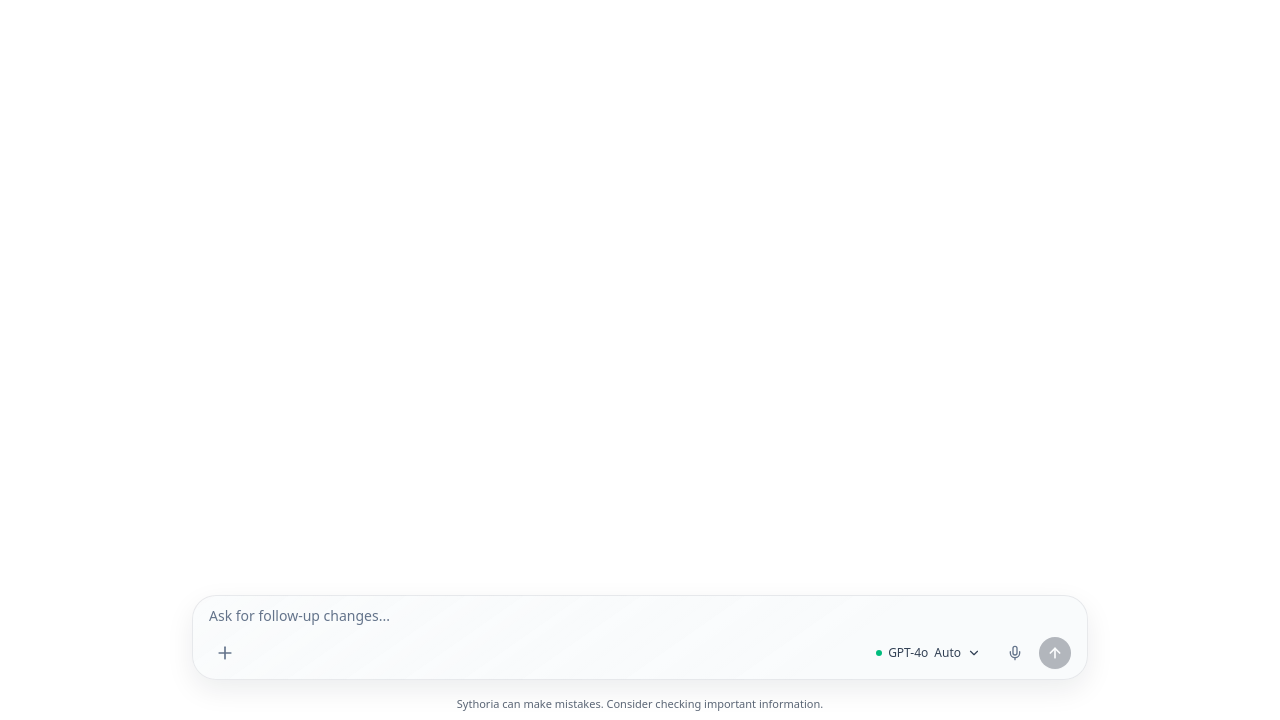
Scenario: InputBar › organizes response settings into model and thinking sections
The width and height of the screenshot is (1280, 720).
Step 1. Click the button with aria-label "response settings" → (929, 652), box [866,636,991,668]
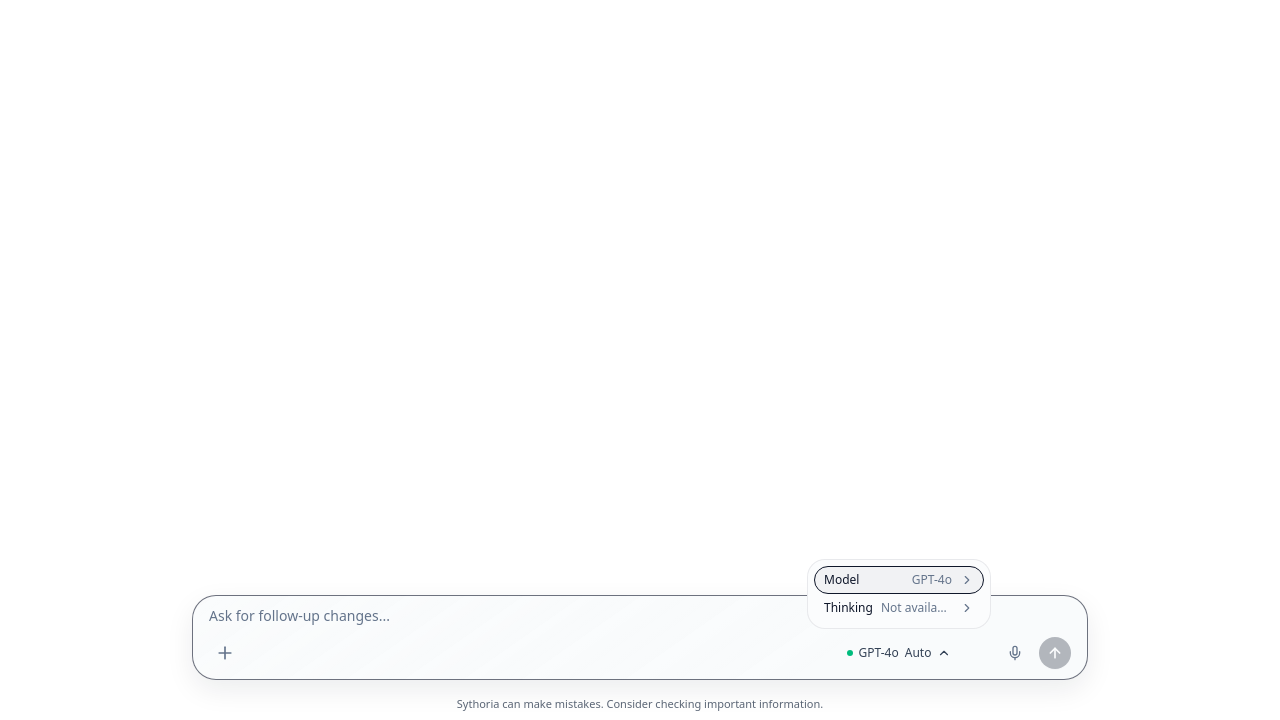
Check: the button "Model GPT-4o" is shown, box [814,566,984,594]
Check: the button "Thinking Not available" is shown, box [814,594,984,622]
